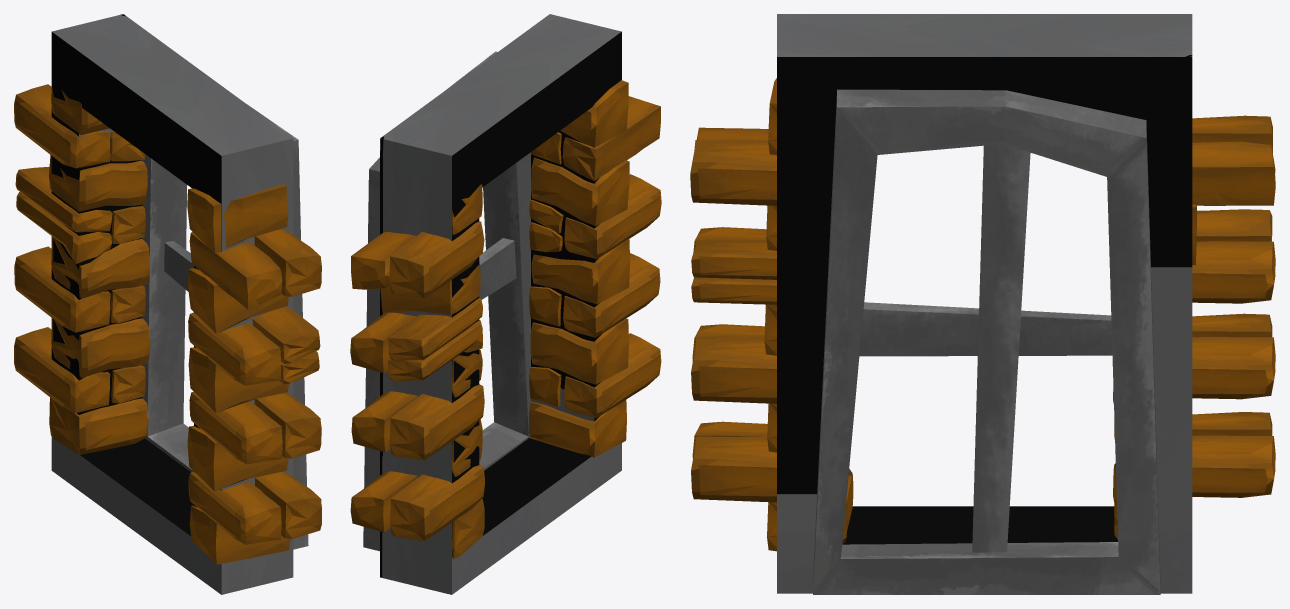
The model's file is window-2.fbx.
3 renders of one model, left to right at view 1: azimuth 30°, elevation 25°; view 2: azimuth 150°, elevation 25°; view 3: azimuth 270°, elevation 25°, orthographic. The views are drawn at different scales.
Visible parts, largest first — view 1: Cube.006; view 2: Cube.006; view 3: Cube.006.
Part boxes in pixels (box(x1,y1,x2,y2)): Cube.006: box(14, 14, 321, 594); Cube.006: box(350, 14, 661, 594); Cube.006: box(690, 14, 1275, 594).
Size of the model in its own units: 18.31 by 67.55 by 66.81.
